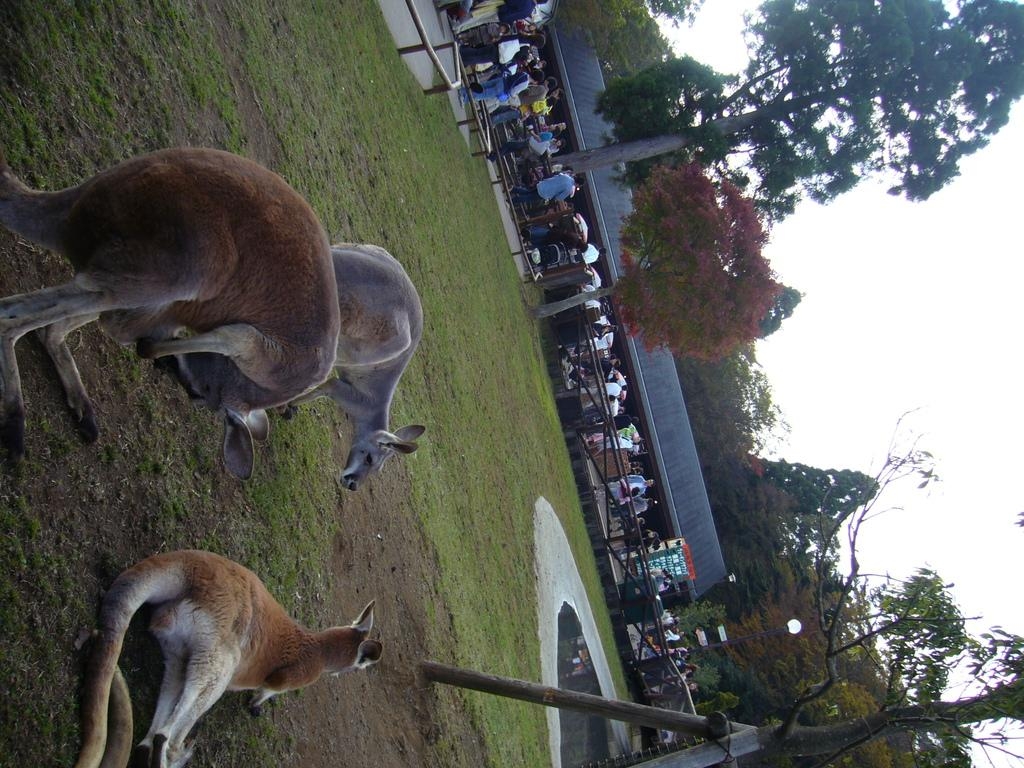kangaroo: (0, 151, 335, 460), (76, 550, 386, 768), (324, 246, 428, 498)
